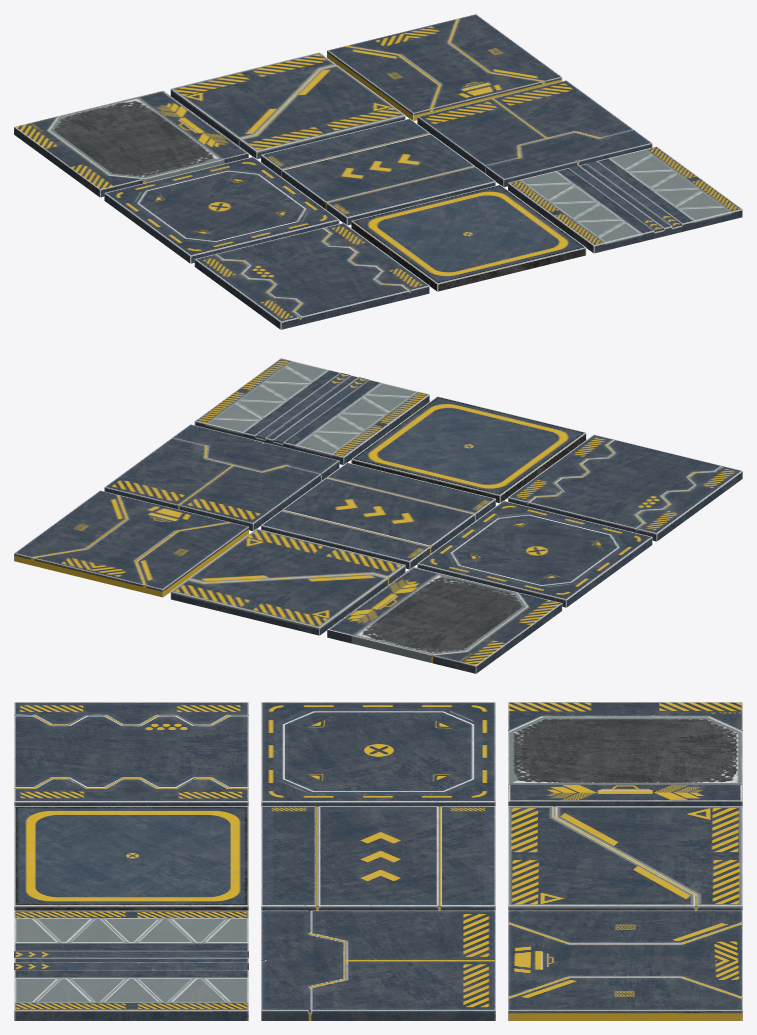
Rendered from sfFloorPack002.fbx.
3 views of the same model, one above another, from view 1: azimuth 30°, elevation 25°; view 2: azimuth 150°, elevation 25°; view 3: azimuth 270°, elevation 25° (orthographic). The views are drawn at different scales.
Parts seen in each view (by area): view 1: sdFloorPack0019, sdFloorPack0018, sdFloorPack0017, sdFloorPack0014, sdFloorPack0013, sdFloorPack0012, sdFloorPack0011, sdFloorPack0015, sdFloorPack0016; view 2: sdFloorPack0013, sdFloorPack0012, sdFloorPack0011, sdFloorPack0014, sdFloorPack0019, sdFloorPack0018, sdFloorPack0015, sdFloorPack0017, sdFloorPack0016; view 3: sdFloorPack0011, sdFloorPack0016, sdFloorPack0017, sdFloorPack0012, sdFloorPack0013, sdFloorPack0015, sdFloorPack0014, sdFloorPack0018, sdFloorPack0019.
Part boxes in pixels (left/top/right/bottom): sdFloorPack0019: left=194, top=223, right=429, bottom=329; sdFloorPack0018: left=351, top=184, right=586, bottom=291; sdFloorPack0017: left=508, top=146, right=742, bottom=253; sdFloorPack0014: left=104, top=156, right=339, bottom=263; sdFloorPack0013: left=14, top=90, right=248, bottom=197; sdFloorPack0012: left=170, top=52, right=405, bottom=159; sdFloorPack0011: left=327, top=14, right=562, bottom=120; sdFloorPack0015: left=261, top=118, right=495, bottom=225; sdFloorPack0016: left=417, top=80, right=652, bottom=186; sdFloorPack0013: left=327, top=567, right=562, bottom=673; sdFloorPack0012: left=170, top=528, right=405, bottom=635; sdFloorPack0011: left=14, top=490, right=248, bottom=597; sdFloorPack0014: left=417, top=500, right=652, bottom=607; sdFloorPack0019: left=508, top=434, right=742, bottom=541; sdFloorPack0018: left=351, top=396, right=586, bottom=503; sdFloorPack0015: left=261, top=462, right=495, bottom=569; sdFloorPack0017: left=194, top=358, right=429, bottom=464; sdFloorPack0016: left=104, top=424, right=339, bottom=530; sdFloorPack0011: left=508, top=910, right=742, bottom=1020; sdFloorPack0016: left=261, top=910, right=495, bottom=1020; sdFloorPack0017: left=14, top=910, right=248, bottom=1020; sdFloorPack0012: left=508, top=806, right=742, bottom=910; sdFloorPack0013: left=508, top=702, right=742, bottom=806; sdFloorPack0015: left=261, top=806, right=495, bottom=910; sdFloorPack0014: left=261, top=702, right=495, bottom=806; sdFloorPack0018: left=14, top=806, right=248, bottom=910; sdFloorPack0019: left=14, top=702, right=248, bottom=806.
Size of the model in its own units: 620 by 10 by 620.
